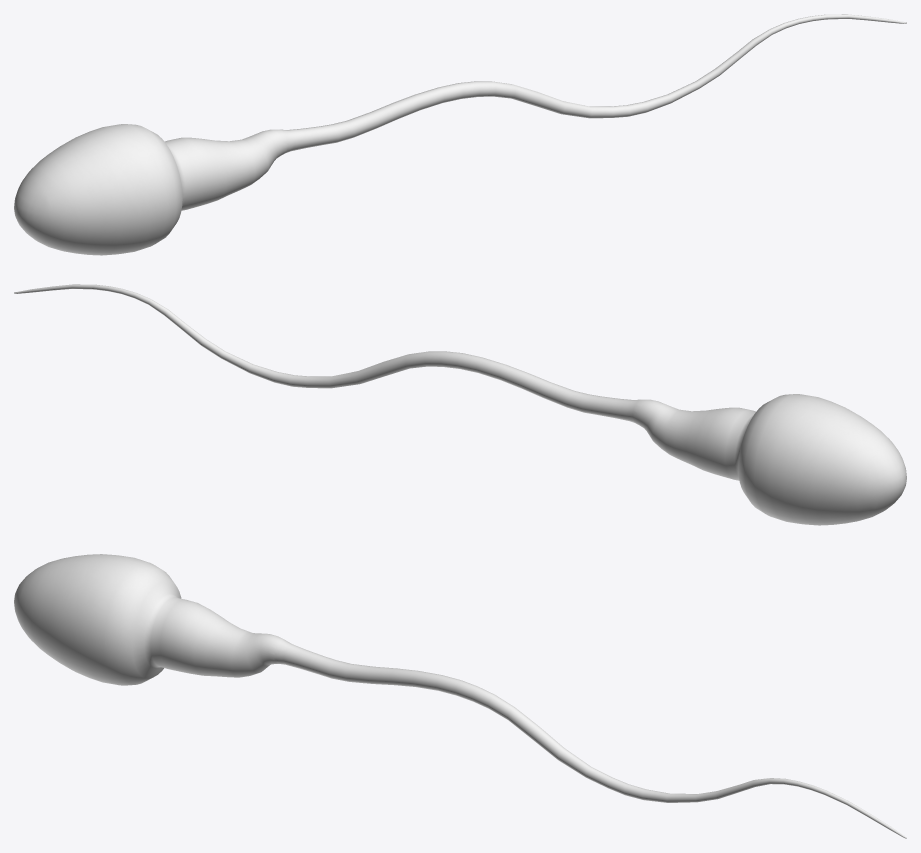
File: Sperm.fbx
3 views of the same model, one above another, from view 1: azimuth 30°, elevation 25°; view 2: azimuth 150°, elevation 25°; view 3: azimuth 330°, elevation 25° (orthographic).
Visible parts, largest first — view 1: Sperm; view 2: Sperm; view 3: Sperm.
Boxes of the visible parts, bbox=[...] form: Sperm: bbox=[14, 14, 906, 255]; Sperm: bbox=[14, 284, 906, 525]; Sperm: bbox=[14, 554, 906, 838].
Size of the model in its own units: 5.94 by 0.7449 by 0.7449.
